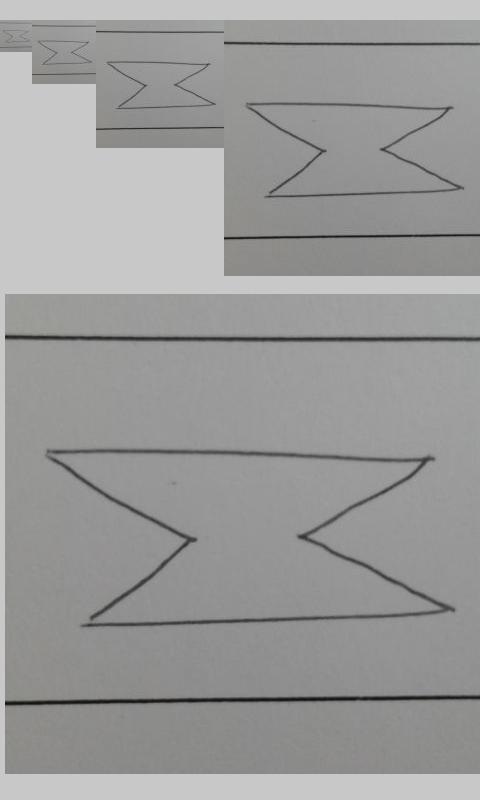edit_text: (47, 445, 454, 629), (243, 101, 462, 199), (106, 60, 216, 110), (38, 40, 93, 65), (3, 29, 31, 43)
